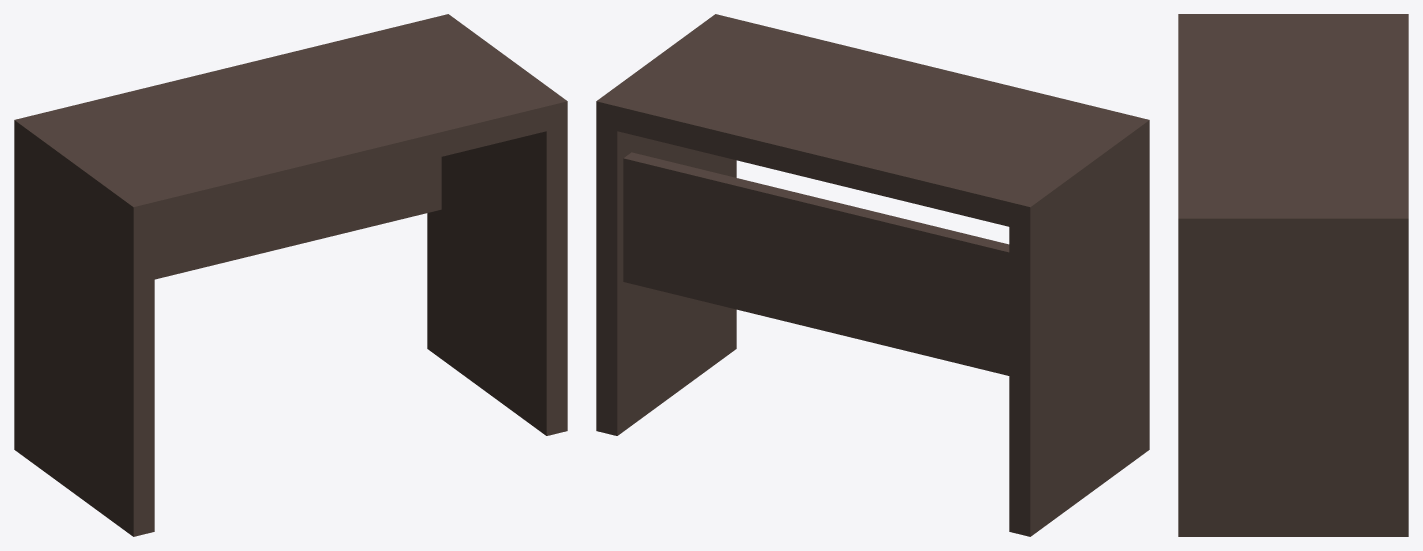
Rendered from Table2x1.fbx.
3 views of the same model, side by side, from view 1: azimuth 30°, elevation 25°; view 2: azimuth 150°, elevation 25°; view 3: azimuth 270°, elevation 25° (orthographic). The views are drawn at different scales.
Visible parts, largest first — view 1: Chair.001; view 2: Chair.001; view 3: Chair.001.
Boxes of the visible parts, x1,y1,x2,y2 form: Chair.001: [14, 14, 567, 536]; Chair.001: [596, 14, 1149, 536]; Chair.001: [1178, 14, 1408, 536].
Size of the model in its own units: 301 by 219 by 143.
